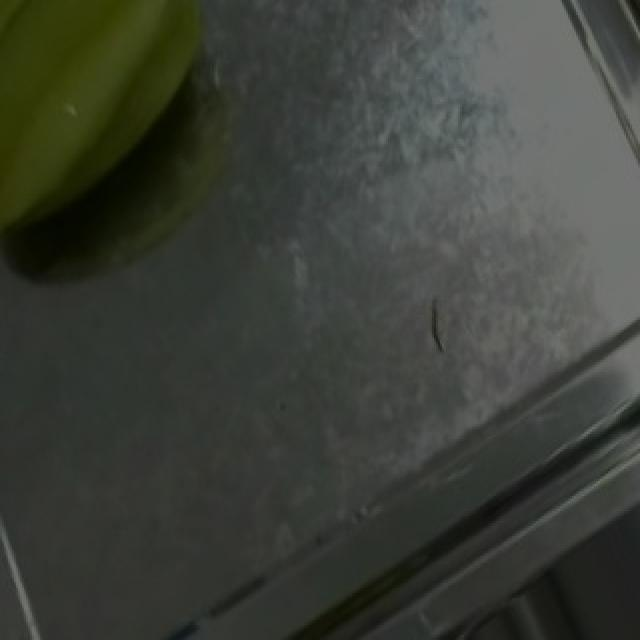fruit: (0, 0, 226, 253)
